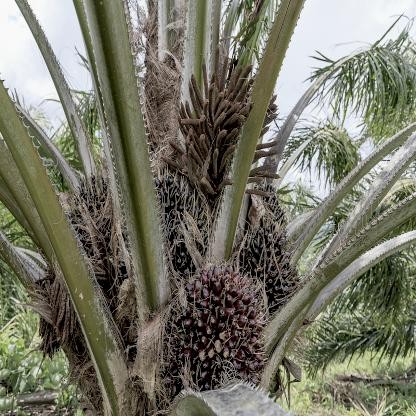1: (156, 260, 267, 402)
palm-oil: (149, 172, 210, 275), (240, 227, 300, 297), (72, 172, 121, 253)
